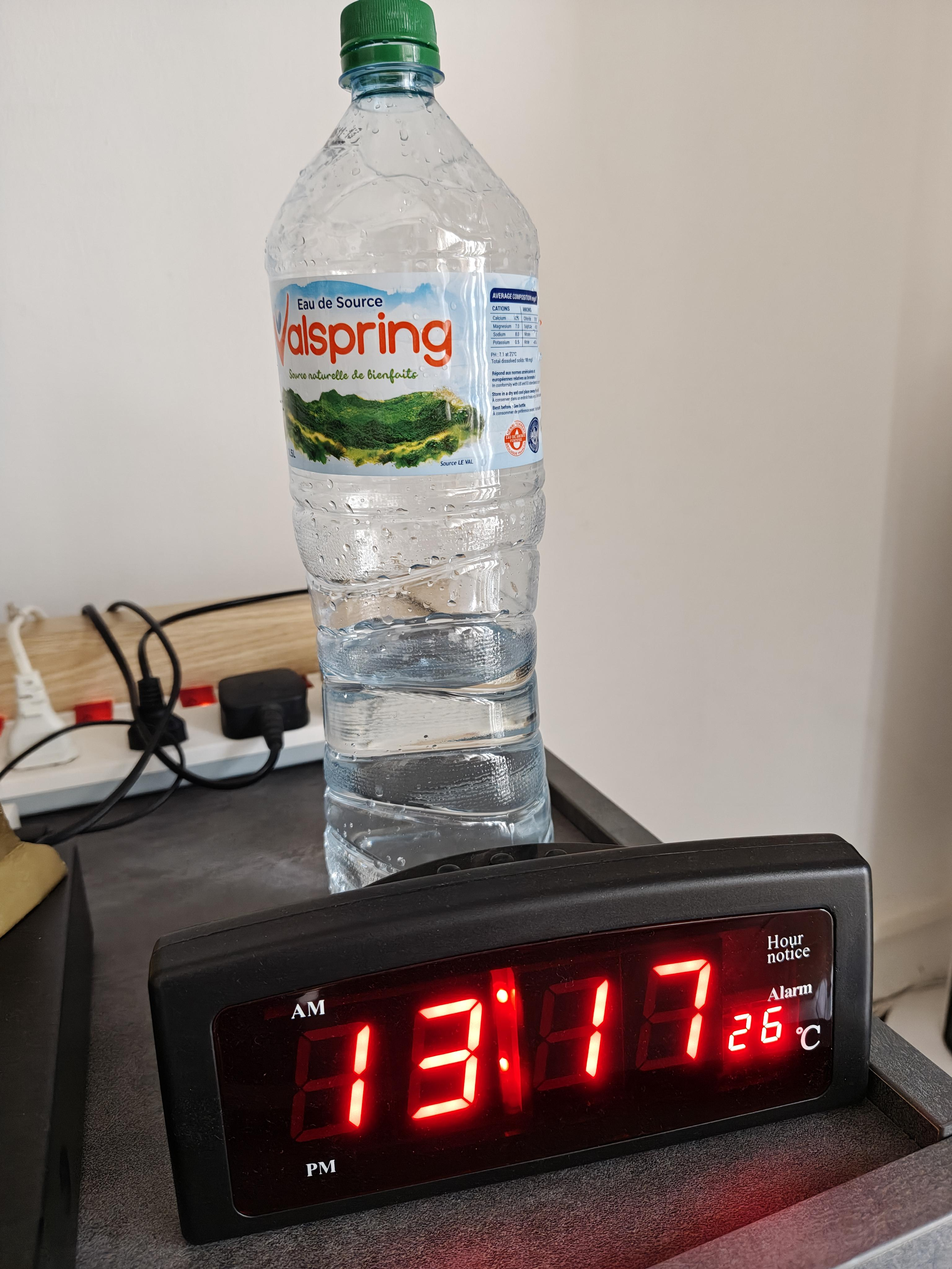bottle: (264, 0, 554, 894)
